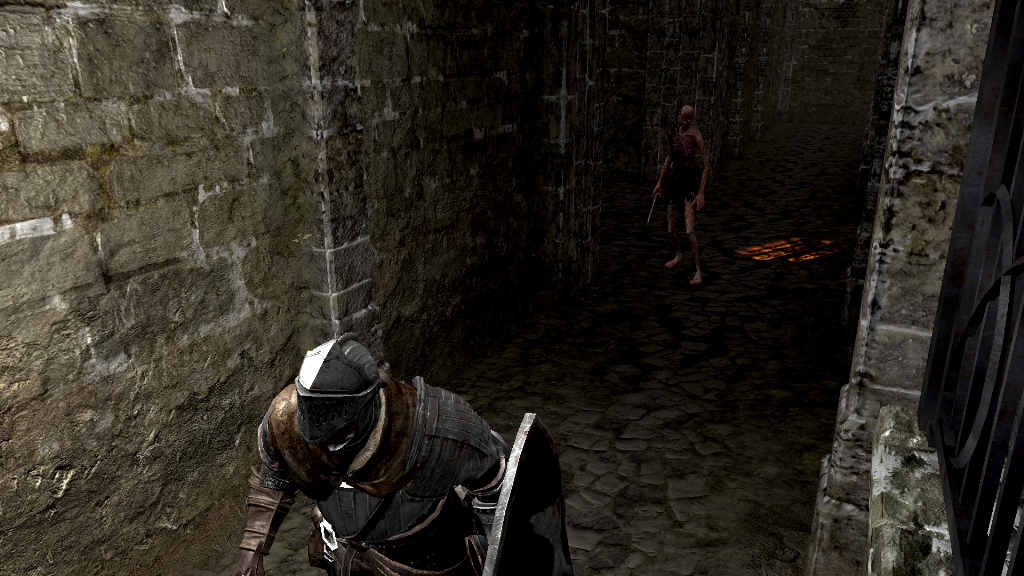hollow: (651, 103, 712, 287)
player: (237, 331, 572, 576)
